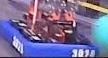blue_number: (11, 35, 25, 55), (70, 48, 96, 58)
